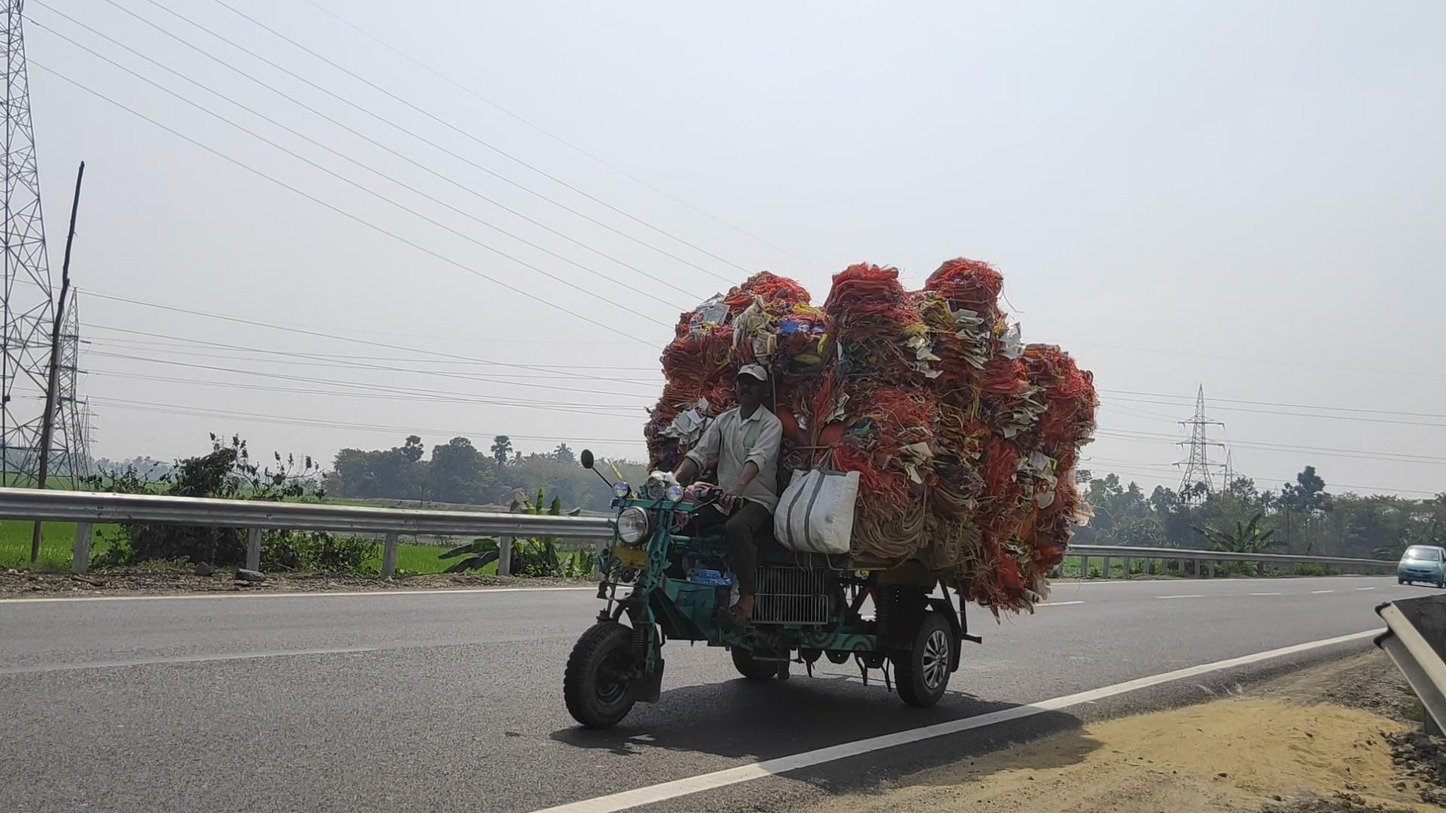car: (1397, 544, 1446, 589)
